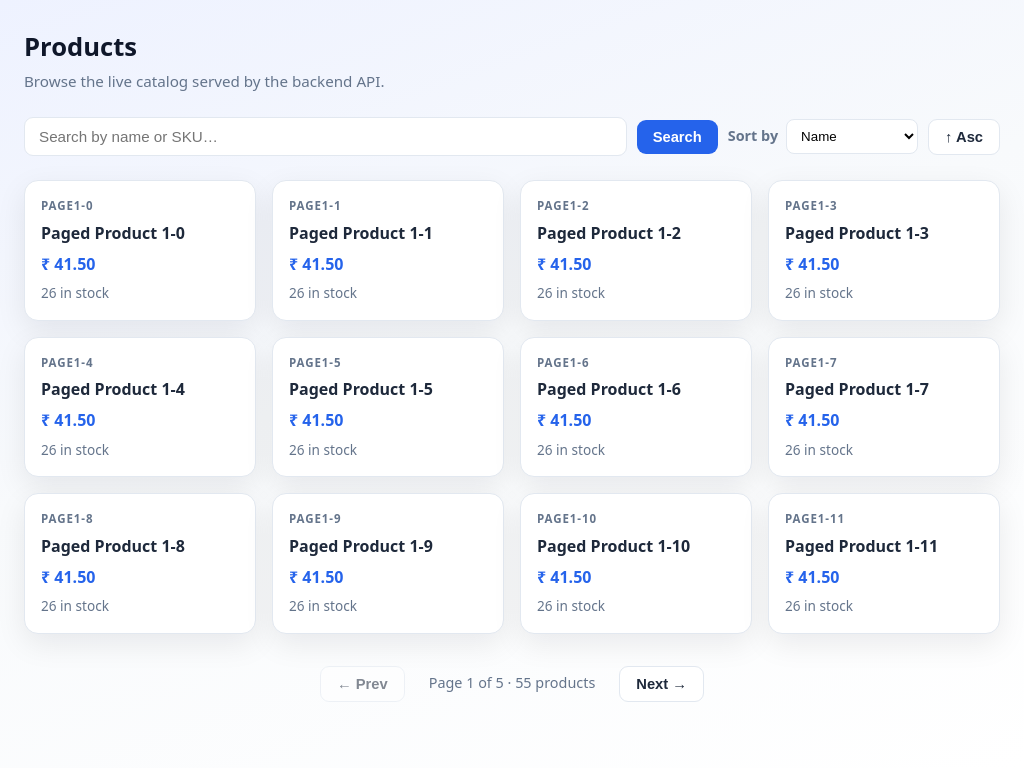
Test case: ProductsPage — live data, states and pagination › derives the page count from total/limit and pages forward through the API
Expected: the text "Page 1 of 5 · 55 products" is shown, [429,672,595,695]
Expected: the text "PAGE1-0" is shown, [41,198,94,213]
Click the button "Next →". click: [662, 684]
box: [619,666,704,702]
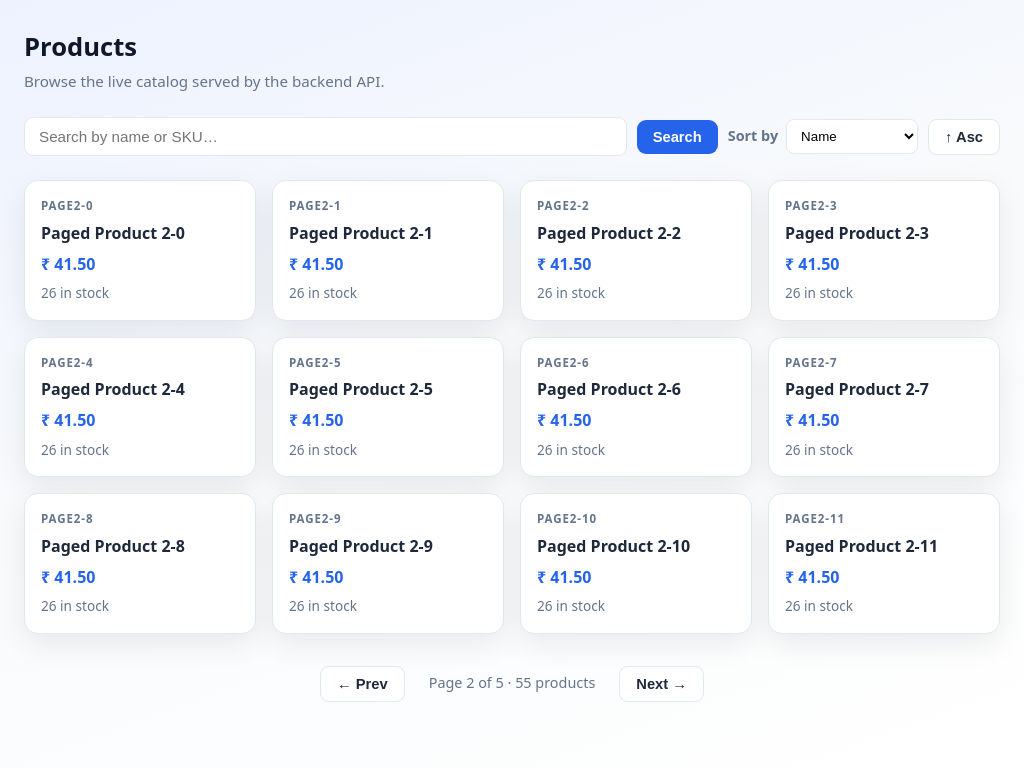
Now the text "Page 2 of 5 · 55 products" is shown, box [429,672,595,695]
Now the text "PAGE2-0" is shown, box [41,198,94,213]
